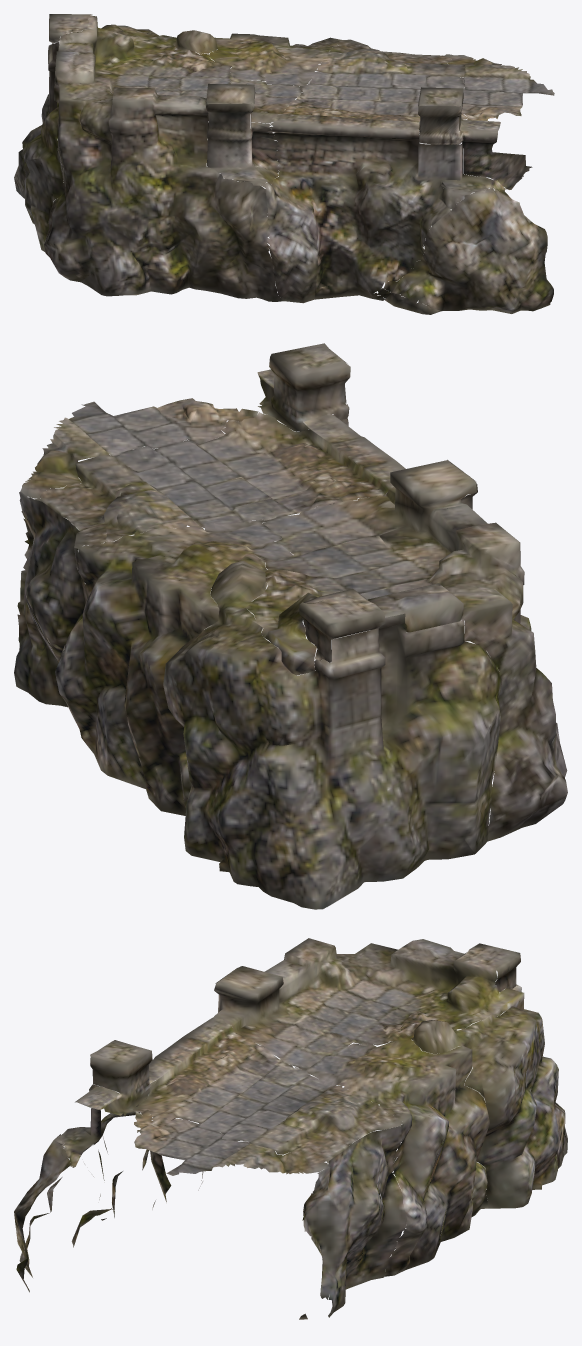
File: RockStreetTransition.glb
3 renders of one model, top to bottom at view 1: azimuth 30°, elevation 25°; view 2: azimuth 150°, elevation 25°; view 3: azimuth 270°, elevation 25°, orthographic. The views are drawn at different scales.
Visible parts, largest first — view 1: Eldoria_MultiPiece_Group_03; view 2: Eldoria_MultiPiece_Group_03; view 3: Eldoria_MultiPiece_Group_03.
Part boxes in pixels (left/top/right/bottom): Eldoria_MultiPiece_Group_03: left=14, top=14, right=554, bottom=314; Eldoria_MultiPiece_Group_03: left=14, top=343, right=567, bottom=909; Eldoria_MultiPiece_Group_03: left=14, top=938, right=567, bottom=1319.
Size of the model in its own units: 0.2494 by 0.1083 by 0.2627.
1 material, 1 textured.
